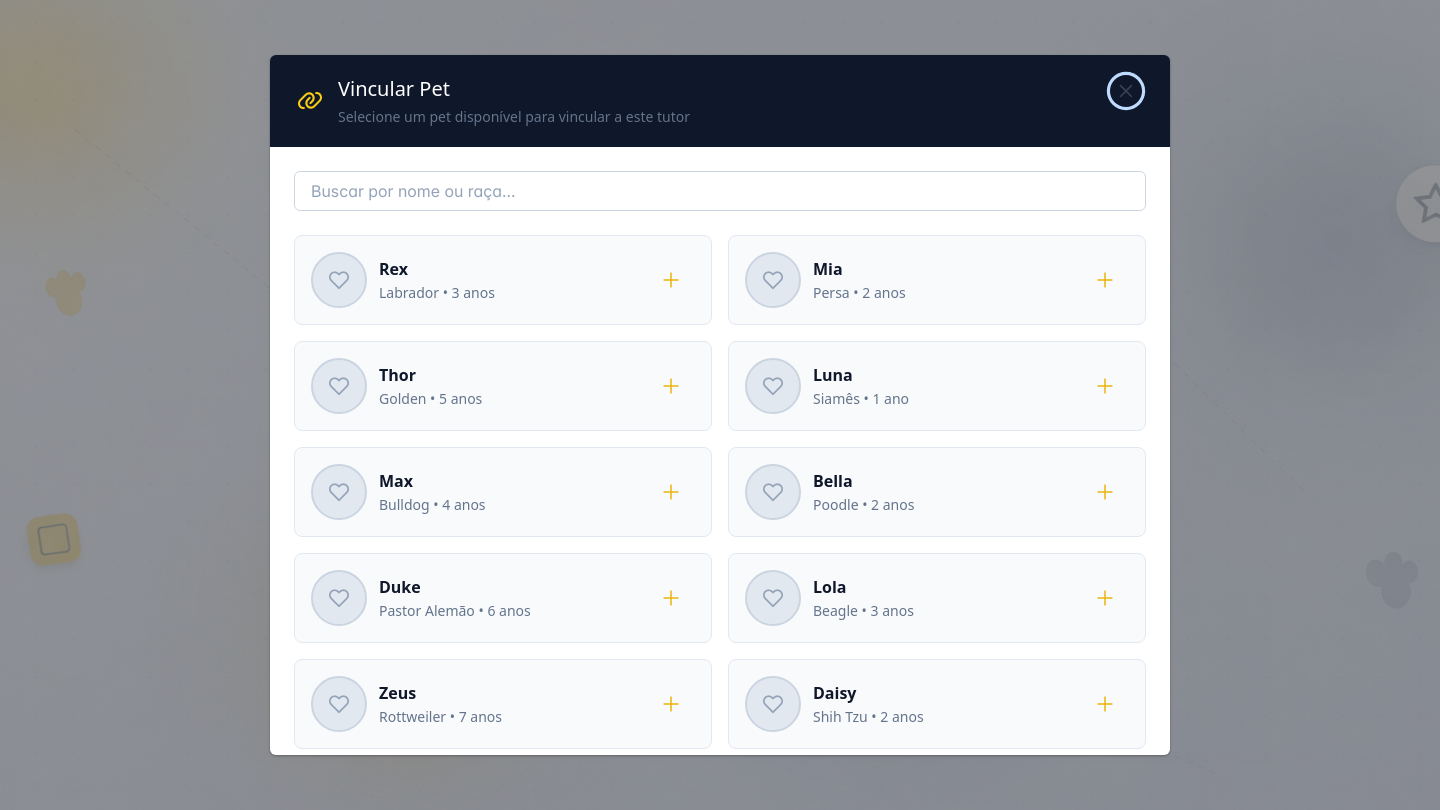
VincularPetModal › deve filtrar pets por nome
Type "Rex" into the field with placeholder "Buscar por nome ou raça..." at [720, 191], box [294,171,1146,211]
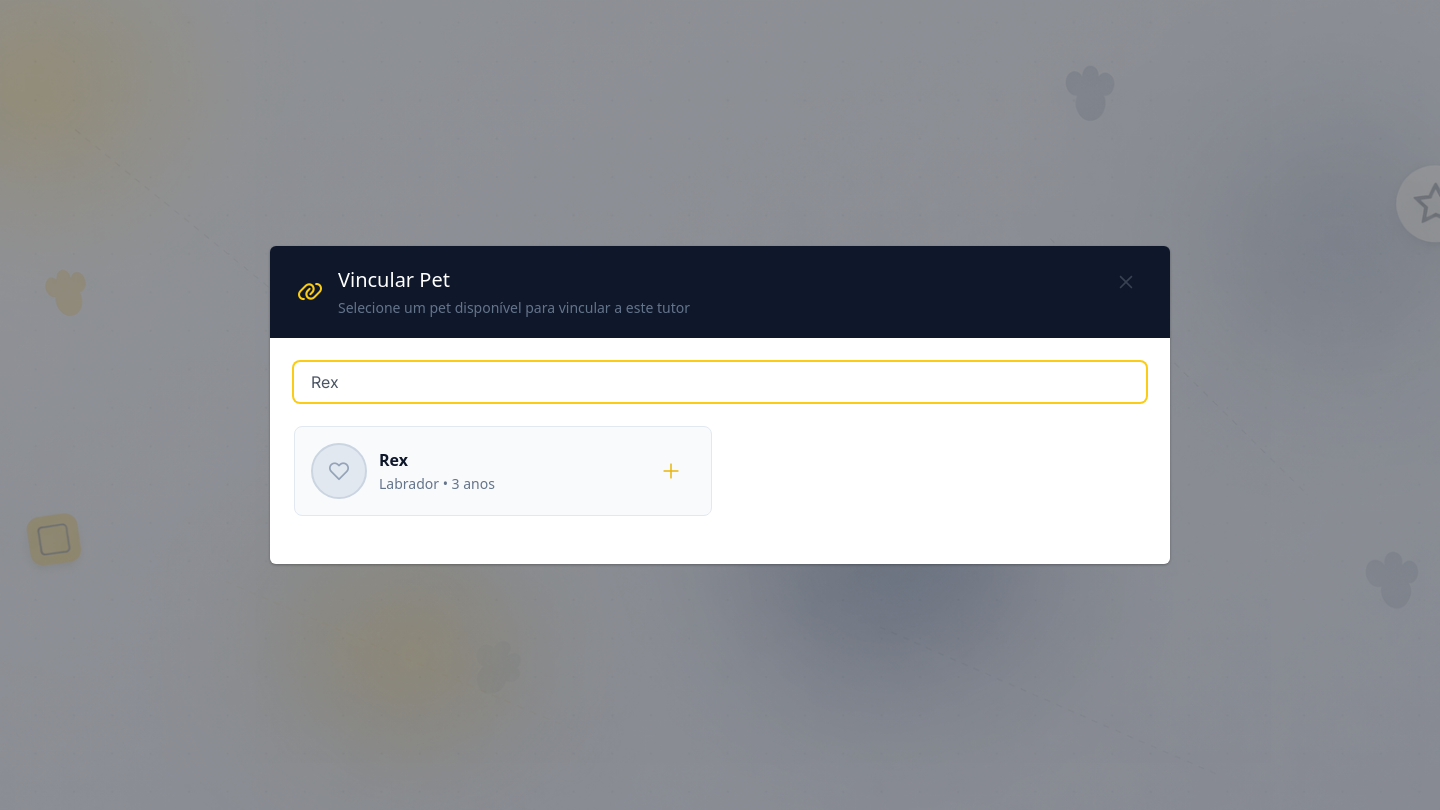
Check: the text "Rex" is shown, box [379,449,408,471]
Check: the text "Mia" is gone
